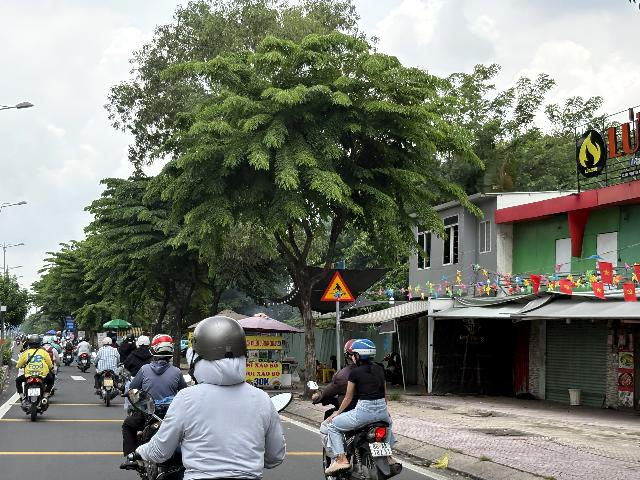duong-nguoi-di-bo-cat-ngang: (320, 270, 355, 302)
